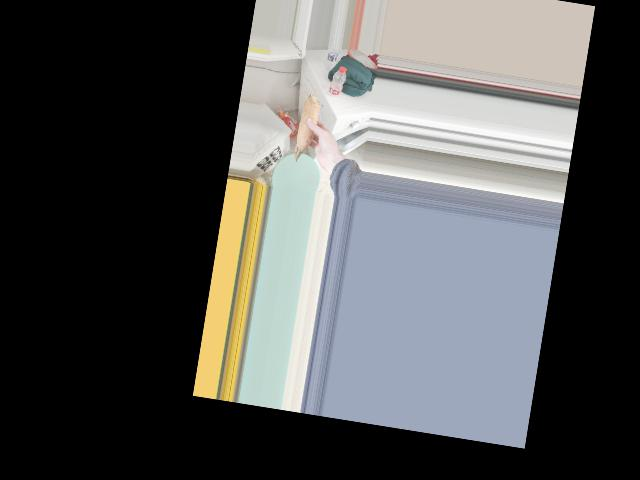sweet_potato: (293, 99, 325, 163)
